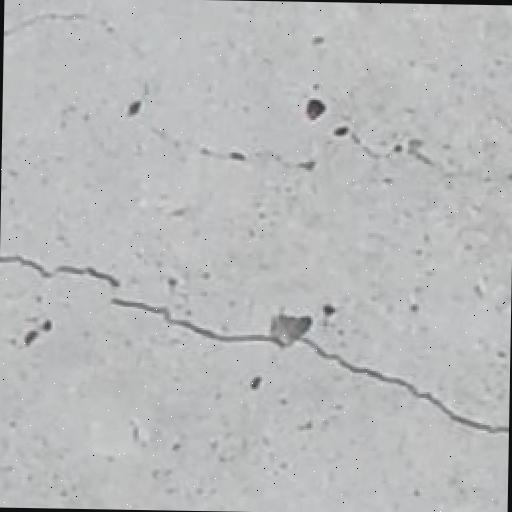spalling: (6, 229, 499, 446)
